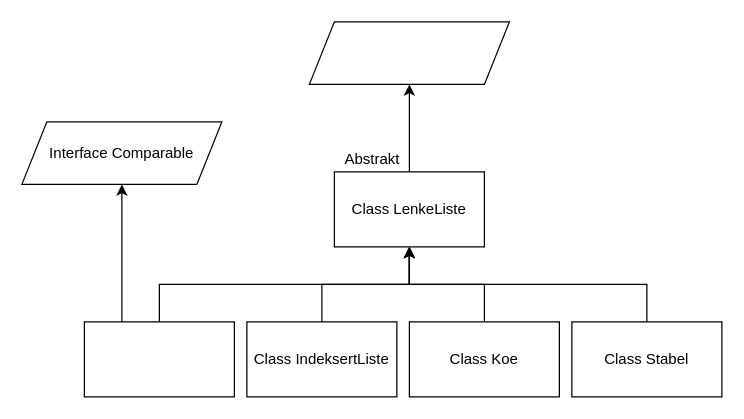
Some shapes in this 744 by 419 pixel diagram are drawn without their labels. Here are the shapes that lost their labels. From the top down, the centre of each, then its label:
At (408,52): "Interface Liste".
At (158,359): "Class Prioritetskoe".
